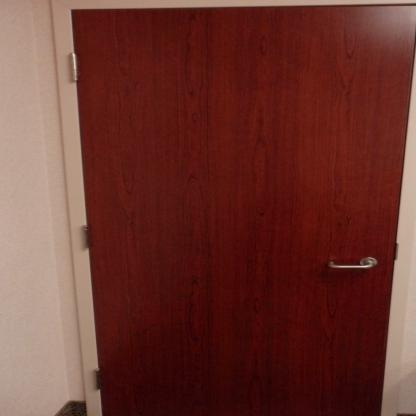door: (68, 8, 412, 415)
hinged: (68, 50, 80, 82), (94, 368, 107, 391), (82, 225, 94, 249)
lever: (324, 258, 379, 272)
